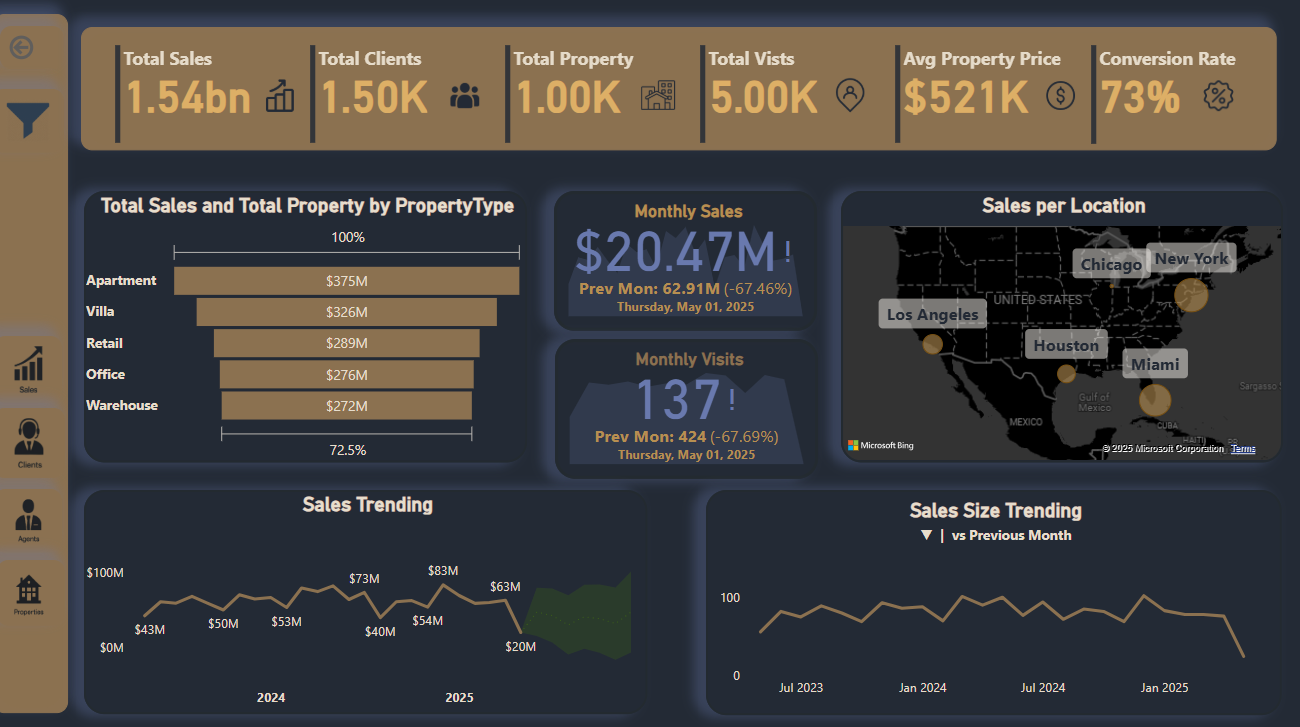

The page's visual inventory and layout, read from the dashboard file:
{"tool":"powerbi","page":{"name":" OverView","canvas":[1280,720],"ordinal":1},"visuals":[{"type":"funnel","fields":{"Category":["Properties.PropertyType"],"Y":["Measures Tabel.Total Sales"]},"box":[90.5,191.5,431,264.3],"z":0},{"type":"shape","box":[1.5,19.5,73.1,680.5],"z":1000,"group":"g1"},{"type":"cardVisual","fields":{"Data":["Measures Tabel.Total Sales"]},"box":[116,44.9,188.2,105.9],"z":1000,"group":"g2"},{"type":"map","title":"Sales per Location","fields":{"Size":["Measures Tabel.Total Sales"],"Category":["Properties.Location"]},"box":[826.8,191.7,430,264],"z":1000},{"type":"actionButton","title":"back","box":[9,31.6,62.1,41.7],"z":2000,"group":"g1"},{"type":"cardVisual","fields":{"Data":["Measures Tabel.Total Clients"]},"box":[305.8,44.9,188.2,105.9],"z":2000,"group":"g2"},{"type":"kpi","title":"Monthly Sales","fields":{"Indicator":["Measures Tabel.Total Sales"],"TrendLine":["Rolling Calender.Start of Month"],"Goal":["Kpi.Last Month Sales"]},"box":[547.6,191.7,256,135.7],"z":2000},{"type":"image","title":"agents","box":[3.2,481.7,66.5,62.1],"z":2500,"group":"g1"},{"type":"image","title":"Sales","box":[3.2,333.1,66.5,65.4],"z":2750,"group":"g1"},{"type":"cardVisual","fields":{"Data":["Measures Tabel.Total Property"]},"box":[495.6,44.9,188.2,105.9],"z":3000,"group":"g2"},{"type":"image","title":"filter","box":[1,92.6,69.7,62],"z":3000,"group":"g1"},{"type":"kpi","title":"Monthly Visits","fields":{"TrendLine":["Rolling Calender.Start of Month"],"Goal":["Kpi.Last Month Visits"],"Indicator":["Measures Tabel.Total Vists"]},"box":[548.8,335.7,256,135.7],"z":3000},{"type":"image","title":"property","box":[5.4,550.4,66.5,64.3],"z":3500,"group":"g1"},{"type":"cardVisual","fields":{"Data":["Measures Tabel.Total Vists"]},"box":[685.4,44.9,188.2,105.9],"z":4000,"group":"g2"},{"type":"image","title":"Clients","box":[1.9,403.1,69.8,67.6],"z":4000,"group":"g1"},{"type":"lineChart","title":"Sales Size Trending","fields":{"Category":["Rolling Calender.Start of Month"],"Y":["CountNonNull(Sales.SaleID)"]},"box":[695.8,482.4,560,218.9],"z":4000},{"type":"cardVisual","fields":{"Data":["Measures Tabel.avg Property price"]},"box":[875.1,44.9,188.2,105.9],"z":5000,"group":"g2"},{"type":"lineChart","title":"Sales Trending","fields":{"Y":["Sum(Sales.SalePrice)"],"Category":["Rolling Calender.Sales_Date.Variation.Date Hierarchy.Year","Rolling Calender.Sales_Date.Variation.Date Hierarchy.Quarter","Rolling Calender.Sales_Date.Variation.Date Hierarchy.Month"]},"box":[90,482.3,548.1,217.6],"z":5000},{"type":"group","id":"g1","title":"panel","box":[1,19.5,73.7,680.5],"z":6000},{"type":"cardVisual","fields":{"Data":["Measures Tabel.conversion rate"]},"box":[1064.9,44.8,188.2,106.1],"z":6000,"group":"g2"},{"type":"image","box":[812.8,75.3,47.4,47.4],"z":7000,"group":"g2"},{"type":"shape","box":[87.3,32.2,1163.4,120],"z":7500},{"type":"group","id":"g2","title":"Group 1","box":[116,44.8,1137.2,106.1],"z":8000},{"type":"image","box":[430.8,79.5,60,37.6],"z":9000},{"type":"image","box":[624.7,76.7,48.8,43.2],"z":10000},{"type":"image","box":[1017.9,79.5,46,37.6],"z":11000},{"type":"image","box":[1174,72.7,40.4,51.6],"z":12000},{"type":"image","box":[249.6,75.5,62.7,46],"z":13000}]}

Visuals, with their boxes on the page's 1280x720 design canvas (x1, y1, x2, y2). These are canvas units, not pixel positions in the 1300x727 screenshot, which may show the page scaled, cropped or inside an application window:
funnel - Properties.PropertyType x Measures Tabel.Total Sales: (90, 192, 522, 456)
shape: (2, 20, 75, 700)
cardVisual - Measures Tabel.Total Sales: (116, 45, 304, 151)
"Sales per Location" map: (827, 192, 1257, 456)
"back" actionButton: (9, 32, 71, 73)
cardVisual - Measures Tabel.Total Clients: (306, 45, 494, 151)
"Monthly Sales" kpi: (548, 192, 804, 327)
"agents" image: (3, 482, 70, 544)
"Sales" image: (3, 333, 70, 398)
cardVisual - Measures Tabel.Total Property: (496, 45, 684, 151)
"filter" image: (1, 93, 71, 155)
"Monthly Visits" kpi: (549, 336, 805, 471)
"property" image: (5, 550, 72, 615)
cardVisual - Measures Tabel.Total Vists: (685, 45, 874, 151)
"Clients" image: (2, 403, 72, 471)
"Sales Size Trending" lineChart: (696, 482, 1256, 701)
cardVisual - Measures Tabel.avg Property price: (875, 45, 1063, 151)
"Sales Trending" lineChart: (90, 482, 638, 700)
"panel" group: (1, 20, 75, 700)
cardVisual - Measures Tabel.conversion rate: (1065, 45, 1253, 151)
image: (813, 75, 860, 123)
shape: (87, 32, 1251, 152)
"Group 1" group: (116, 45, 1253, 151)
image: (431, 80, 491, 117)
image: (625, 77, 674, 120)
image: (1018, 80, 1064, 117)
image: (1174, 73, 1214, 124)
image: (250, 76, 312, 122)
